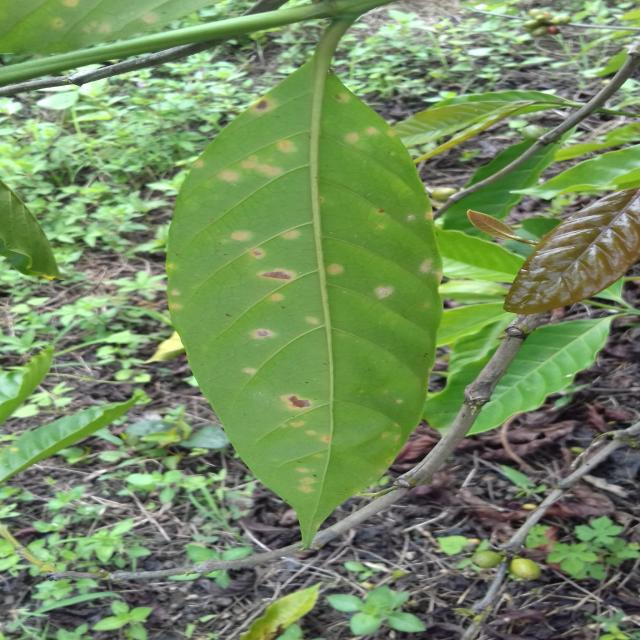Enfermedad-Roya: (171, 65, 439, 539)
